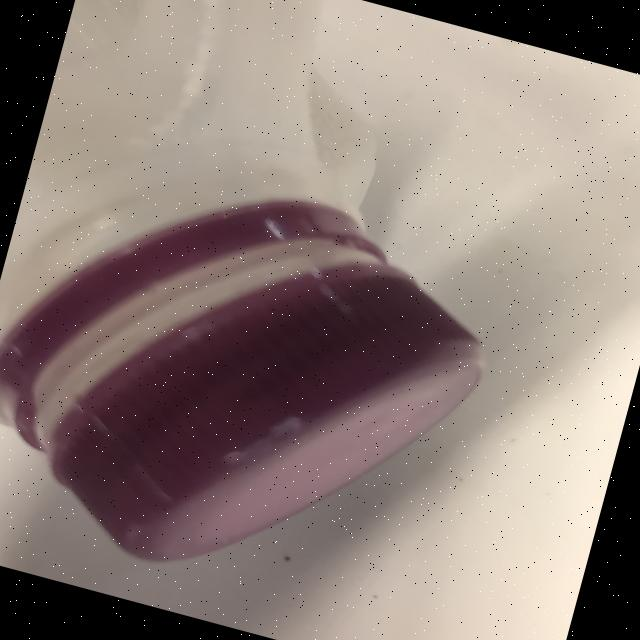plastic: (0, 0, 551, 618)
